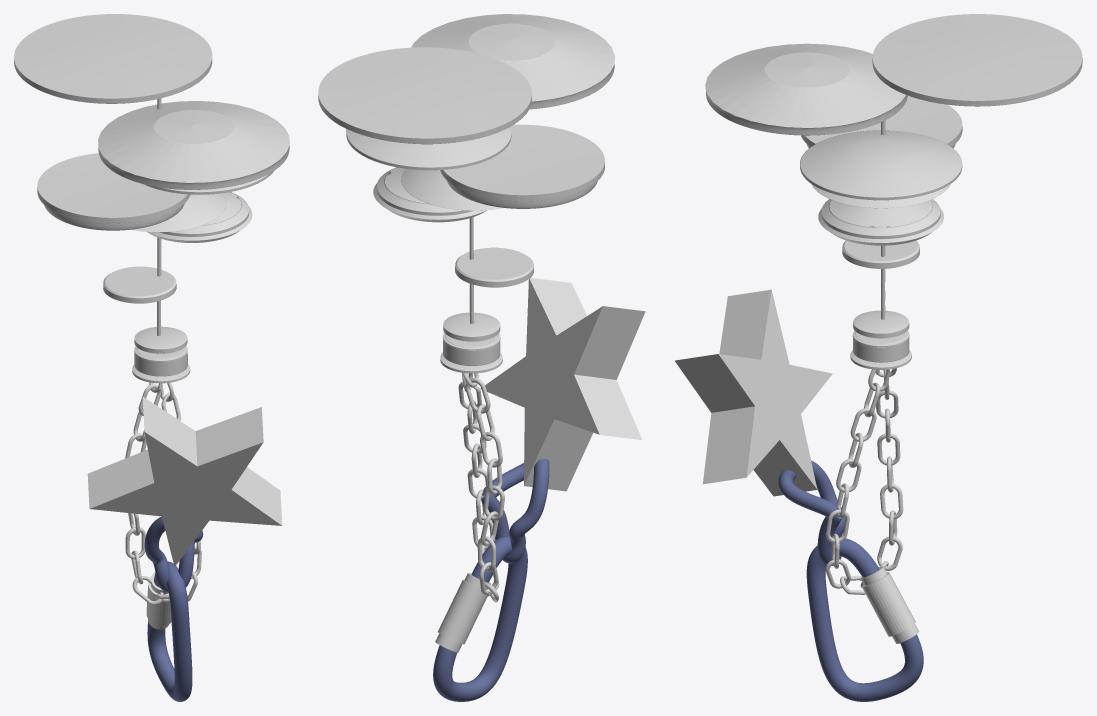
Rendered from Linser på keychain.fbx.
3 renders of one model, left to right at view 1: azimuth 30°, elevation 25°; view 2: azimuth 150°, elevation 25°; view 3: azimuth 270°, elevation 25°, orthographic. The views are drawn at different scales.
Parts seen in each view (by area): view 1: Star, Plane, Plane.002, Plane.004, BezierCurve.001, Torus, Plane.007, Plane.006, Plane.005, BezierCurve.002, Plane.008, Plane.010 (+3 smaller); view 2: Star, Plane, Plane.002, Plane.004, BezierCurve.001, Torus, Plane.003, BezierCurve.002, Plane.007, Plane.006, Plane.005, Cylinder.001 (+3 smaller); view 3: Star, Plane, Plane.002, Plane.003, BezierCurve.001, Torus, Plane.006, Plane.004, BezierCurve.002, Cylinder.001, Plane.007, Plane.008 (+2 smaller).
Part boxes in pixels (x1,y1,x2,y2): Star: [87, 397, 282, 566]; Plane: [14, 14, 212, 103]; Plane.002: [98, 101, 289, 189]; Plane.004: [37, 153, 190, 230]; BezierCurve.001: [147, 561, 192, 701]; Torus: [125, 382, 201, 605]; Plane.007: [103, 266, 176, 303]; Plane.006: [147, 192, 252, 242]; Plane.005: [132, 193, 226, 232]; BezierCurve.002: [144, 516, 203, 592]; Plane.008: [134, 326, 187, 353]; Plane.010: [134, 346, 187, 376]; Star: [480, 278, 645, 491]; Plane: [318, 47, 531, 144]; Plane.002: [411, 14, 614, 109]; Plane.004: [440, 124, 604, 208]; BezierCurve.001: [433, 536, 527, 701]; Torus: [458, 373, 504, 602]; Plane.003: [346, 127, 511, 170]; BezierCurve.002: [481, 458, 549, 563]; Plane.007: [455, 247, 533, 287]; Plane.006: [373, 167, 486, 222]; Plane.005: [401, 168, 502, 210]; Cylinder.001: [438, 579, 488, 644]; Star: [675, 289, 832, 496]; Plane: [872, 14, 1082, 106]; Plane.002: [705, 43, 907, 135]; Plane.003: [800, 130, 962, 200]; BezierCurve.001: [806, 538, 923, 701]; Torus: [825, 368, 903, 594]; Plane.006: [818, 199, 943, 245]; Plane.004: [801, 95, 962, 148]; BezierCurve.002: [778, 460, 845, 565]; Cylinder.001: [862, 572, 915, 636]; Plane.007: [842, 240, 919, 268]; Plane.008: [853, 310, 909, 338].
Bounding box in the file's own units: 2997 × 7850 × 4522.
